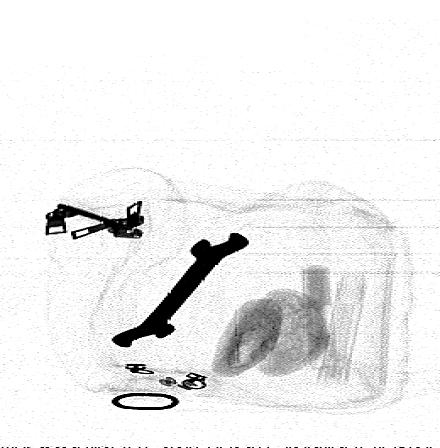Wrench: (109, 230, 252, 350)
